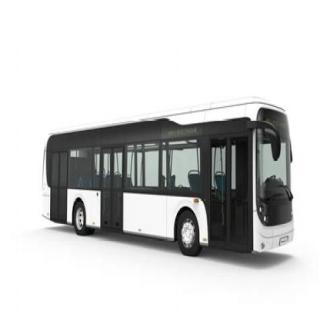Normal_vehicle: (36, 94, 302, 283)
